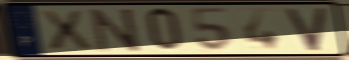0: (143, 6, 186, 54)
4: (244, 7, 284, 52)
5: (188, 6, 235, 54)
N: (88, 7, 143, 54)
V: (284, 6, 330, 53)
X: (37, 9, 96, 52)
